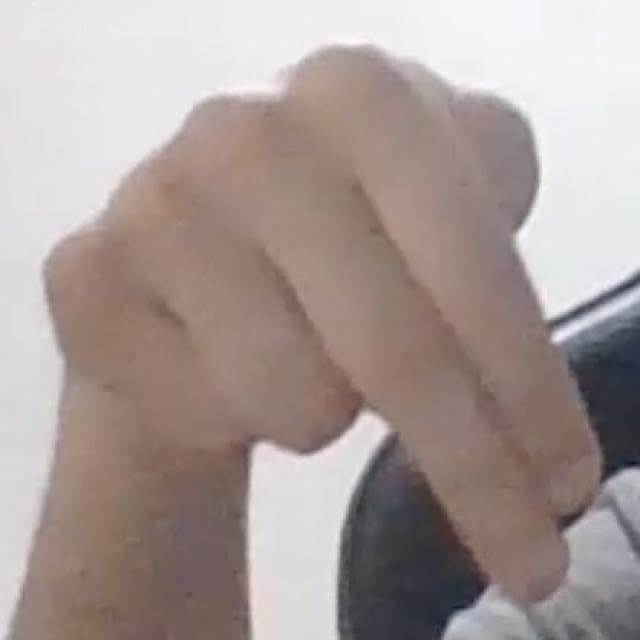N: (32, 31, 604, 612)
